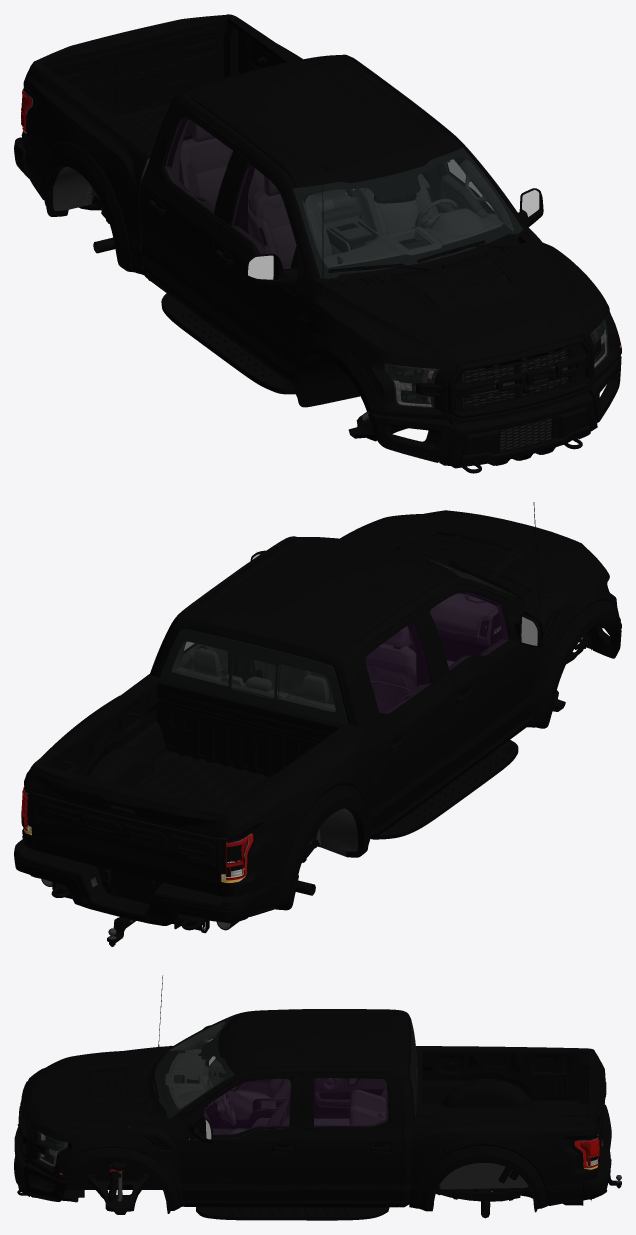
File: body.glb
3 views of the same model, one above another, from view 1: azimuth 30°, elevation 25°; view 2: azimuth 150°, elevation 25°; view 3: azimuth 270°, elevation 25° (orthographic). The views are drawn at different scales.
Visible parts, largest first — view 1: body; view 2: body; view 3: body.
Part boxes in pixels (x1,y1,x2,y2): body: (14,14,621,473); body: (14,502,621,946); body: (14,975,621,1220).
Bounding box in the file's own units: 2.46 × 1.96 × 6.11.
Materials: 38 (23 with a texture image).
